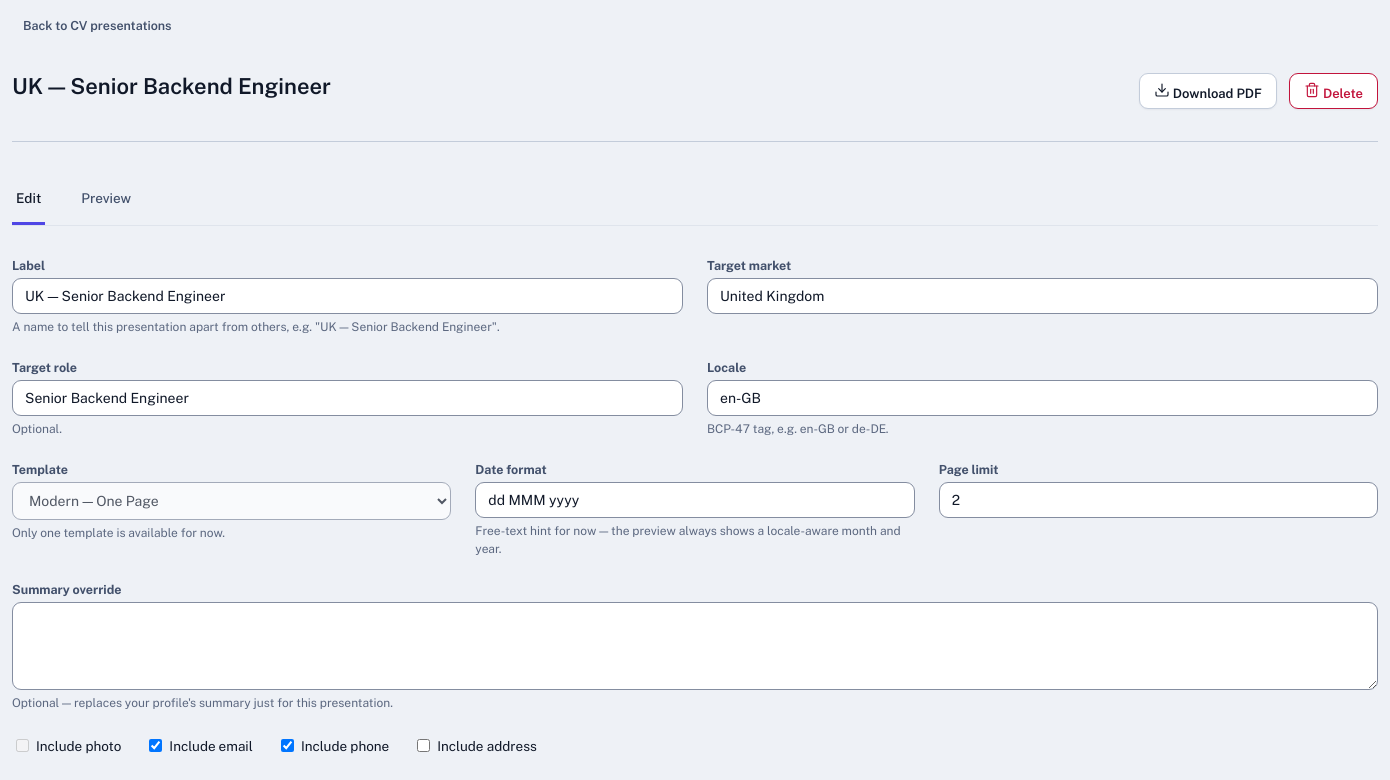
Test: CVPresentationDetailPage export › shows an inline message when the selected content exceeds the page limit
Expected: the heading "UK — Senior Backend Engineer" is shown, [12, 72, 331, 98]
Click the button "Download PDF".
click(1208, 90)  # box [1139, 72, 1277, 108]
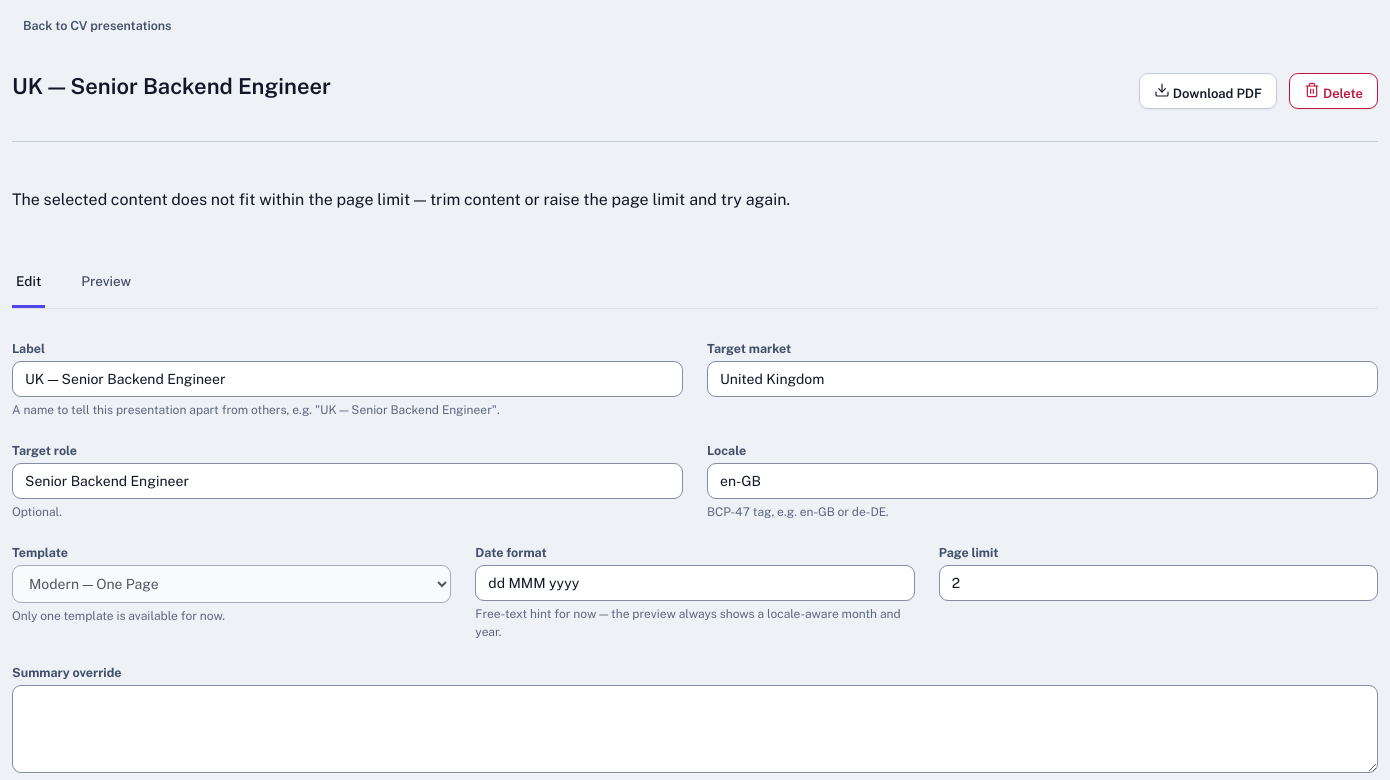
Result: the message shows "page limit" at [12, 190, 790, 208]
